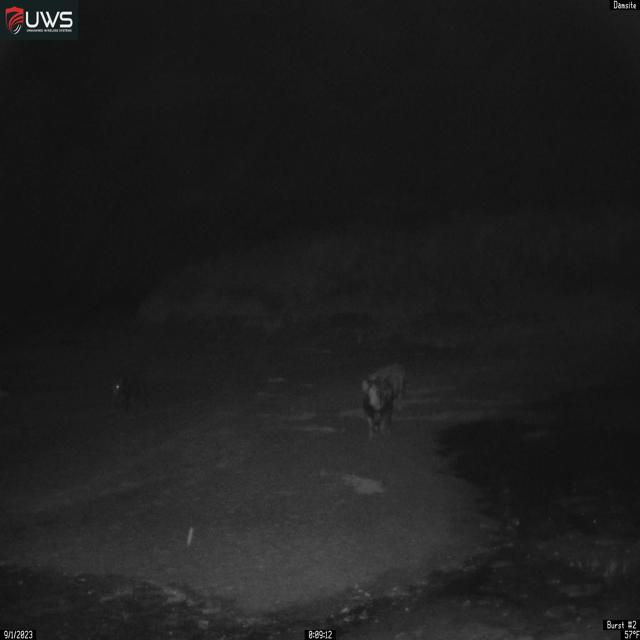pig: (110, 369, 150, 415)
